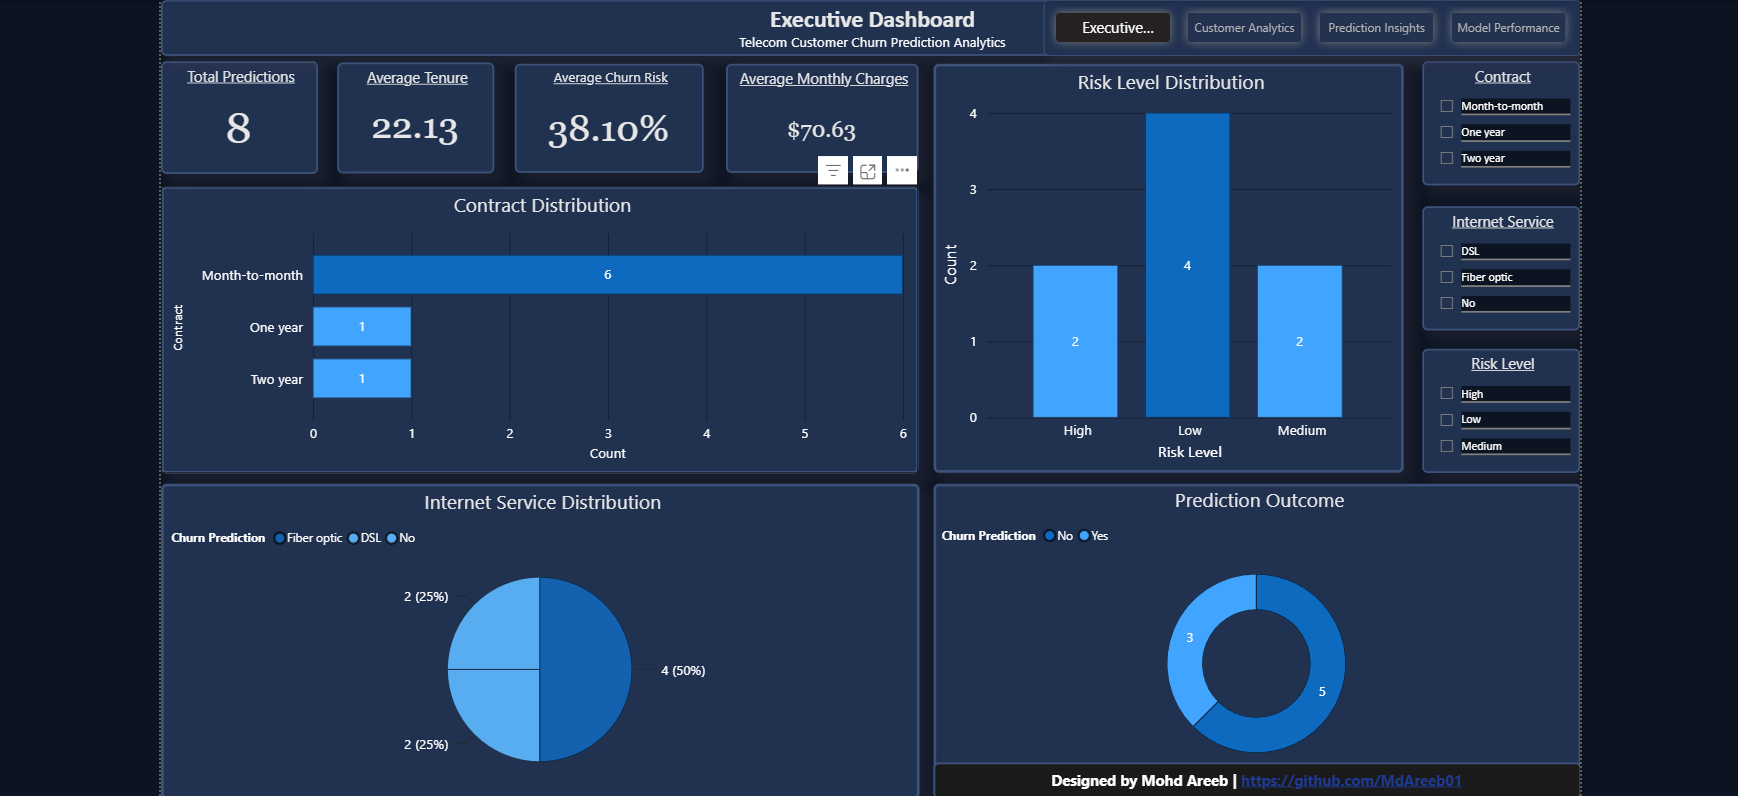

What the dashboard file says about the page in this screenshot:
{"tool":"powerbi","page":{"name":"Executive Dashboard","canvas":[1280,720],"ordinal":0},"visuals":[{"type":"cardVisual","title":"Total Predictions","fields":{"Data":["Count(churn_predictions.prediction_id)"]},"box":[0,55,141.2,101.2],"z":0},{"type":"textbox","title":"Executive Dashboard","box":[0,0,1280,50],"z":1000},{"type":"cardVisual","title":"Average Churn Risk","fields":{"Data":["Avg(churn_predictions.ChurnProbability)"]},"box":[318.8,57.5,170,98.8],"z":2000},{"type":"cardVisual","title":"Average Monthly Charges","fields":{"Data":["Avg(churn_predictions.MonthlyCharges)"]},"box":[510,57.5,173.8,98.8],"z":3000},{"type":"cardVisual","title":"Average Tenure","fields":{"Data":["Avg(churn_predictions.tenure)"]},"box":[158.8,56.2,141.2,100],"z":4000},{"type":"slicer","title":"Risk Level","fields":{"Values":["churn_predictions.RiskLevel"]},"box":[1137.8,314.4,142.2,112.2],"z":5000},{"type":"donutChart","title":"Prediction Outcome","fields":{"Y":["CountNonNull(churn_predictions.prediction_id)"],"Category":["churn_predictions.ChurnPrediction"]},"box":[696.2,436.2,583.8,283.8],"z":6000},{"type":"slicer","title":"Internet Service","fields":{"Values":["churn_predictions.InternetService"]},"box":[1137.8,185.6,142.2,112.2],"z":7000},{"type":"slicer","title":"Contract","fields":{"Values":["churn_predictions.Contract"]},"box":[1137.8,55.6,142.2,112.2],"z":8000},{"type":"clusteredColumnChart","title":"Risk Level Distribution","fields":{"Category":["churn_predictions.RiskLevel"],"Y":["CountNonNull(churn_predictions.prediction_id)"]},"box":[696.2,57.5,423.8,368.8],"z":9000},{"type":"barChart","title":"Contract Distribution","fields":{"Category":["churn_predictions.Contract"],"Y":["CountNonNull(churn_predictions.prediction_id)"]},"box":[0,167.8,683.3,258.9],"z":10000},{"type":"pieChart","title":"Internet Service Distribution","fields":{"Category":["churn_predictions.InternetService"],"Y":["CountNonNull(churn_predictions.prediction_id)"]},"box":[0,436.2,683.8,283.8],"z":11000},{"type":"pageNavigator","box":[795.5,0,484.5,50],"z":11001},{"type":"textbox","title":"Executive Dashboard","box":[696.2,687.5,583.8,32.5],"z":11002}]}

Visuals, with their boxes on the page's 1280x720 design canvas (x1, y1, x2, y2). These are canvas units, not pixel positions in the 1738x796 screenshot, which may show the page scaled, cropped or inside an application window:
"Total Predictions" cardVisual: 0/55/141/156
"Executive Dashboard" textbox: 0/0/1280/50
"Average Churn Risk" cardVisual: 319/58/489/156
"Average Monthly Charges" cardVisual: 510/58/684/156
"Average Tenure" cardVisual: 159/56/300/156
"Risk Level" slicer: 1138/314/1280/427
"Prediction Outcome" donutChart: 696/436/1280/720
"Internet Service" slicer: 1138/186/1280/298
"Contract" slicer: 1138/56/1280/168
"Risk Level Distribution" clusteredColumnChart: 696/58/1120/426
"Contract Distribution" barChart: 0/168/683/427
"Internet Service Distribution" pieChart: 0/436/684/720
pageNavigator: 796/0/1280/50
"Executive Dashboard" textbox: 696/688/1280/720
